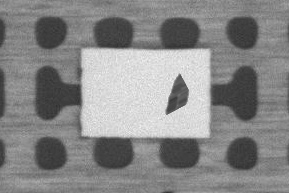DIE_INK: (164, 72, 191, 113)
